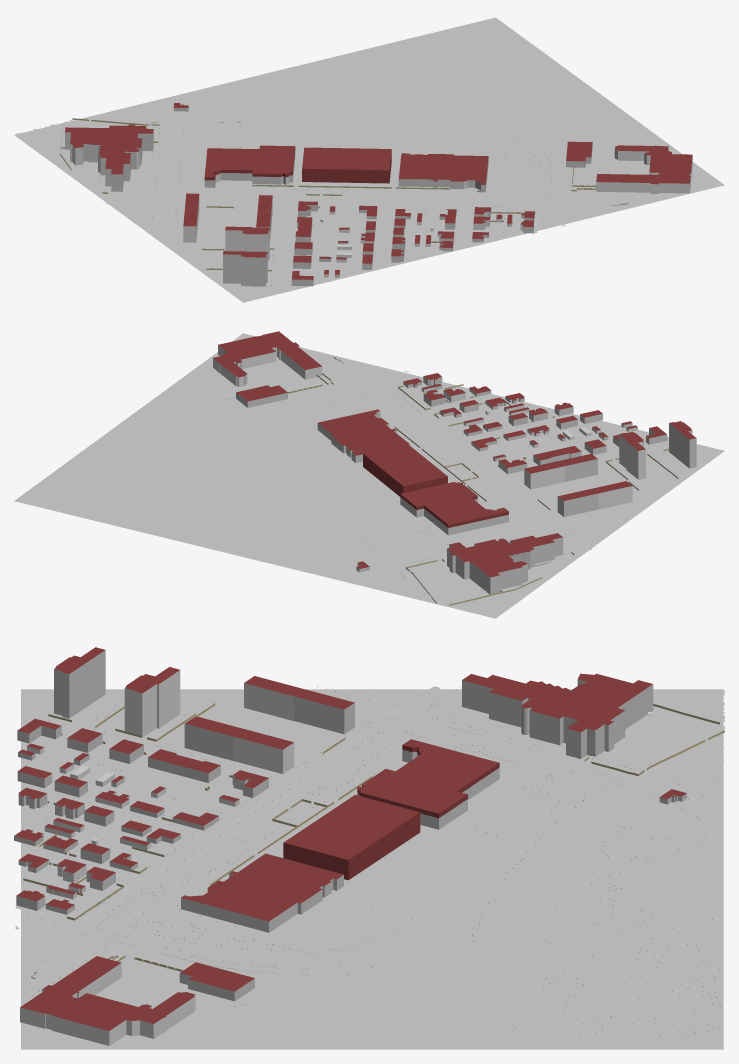
File: raksila2-joined.obj
The picture shows the model from 3 angles, top to bottom: view 1: azimuth 30°, elevation 25°; view 2: azimuth 150°, elevation 25°; view 3: azimuth 270°, elevation 25°; orthographic projection. The views are drawn at different scales.
Visible parts, largest first — view 1: image_0_ID31800; view 2: image_0_ID31800; view 3: image_0_ID31800.
Part boxes in pixels (box(x1,y1,x2,y2)): image_0_ID31800: box(14, 17, 724, 302); image_0_ID31800: box(14, 331, 724, 618); image_0_ID31800: box(14, 647, 724, 1049).
Size of the model in its own units: 705 by 56.28 by 582.
